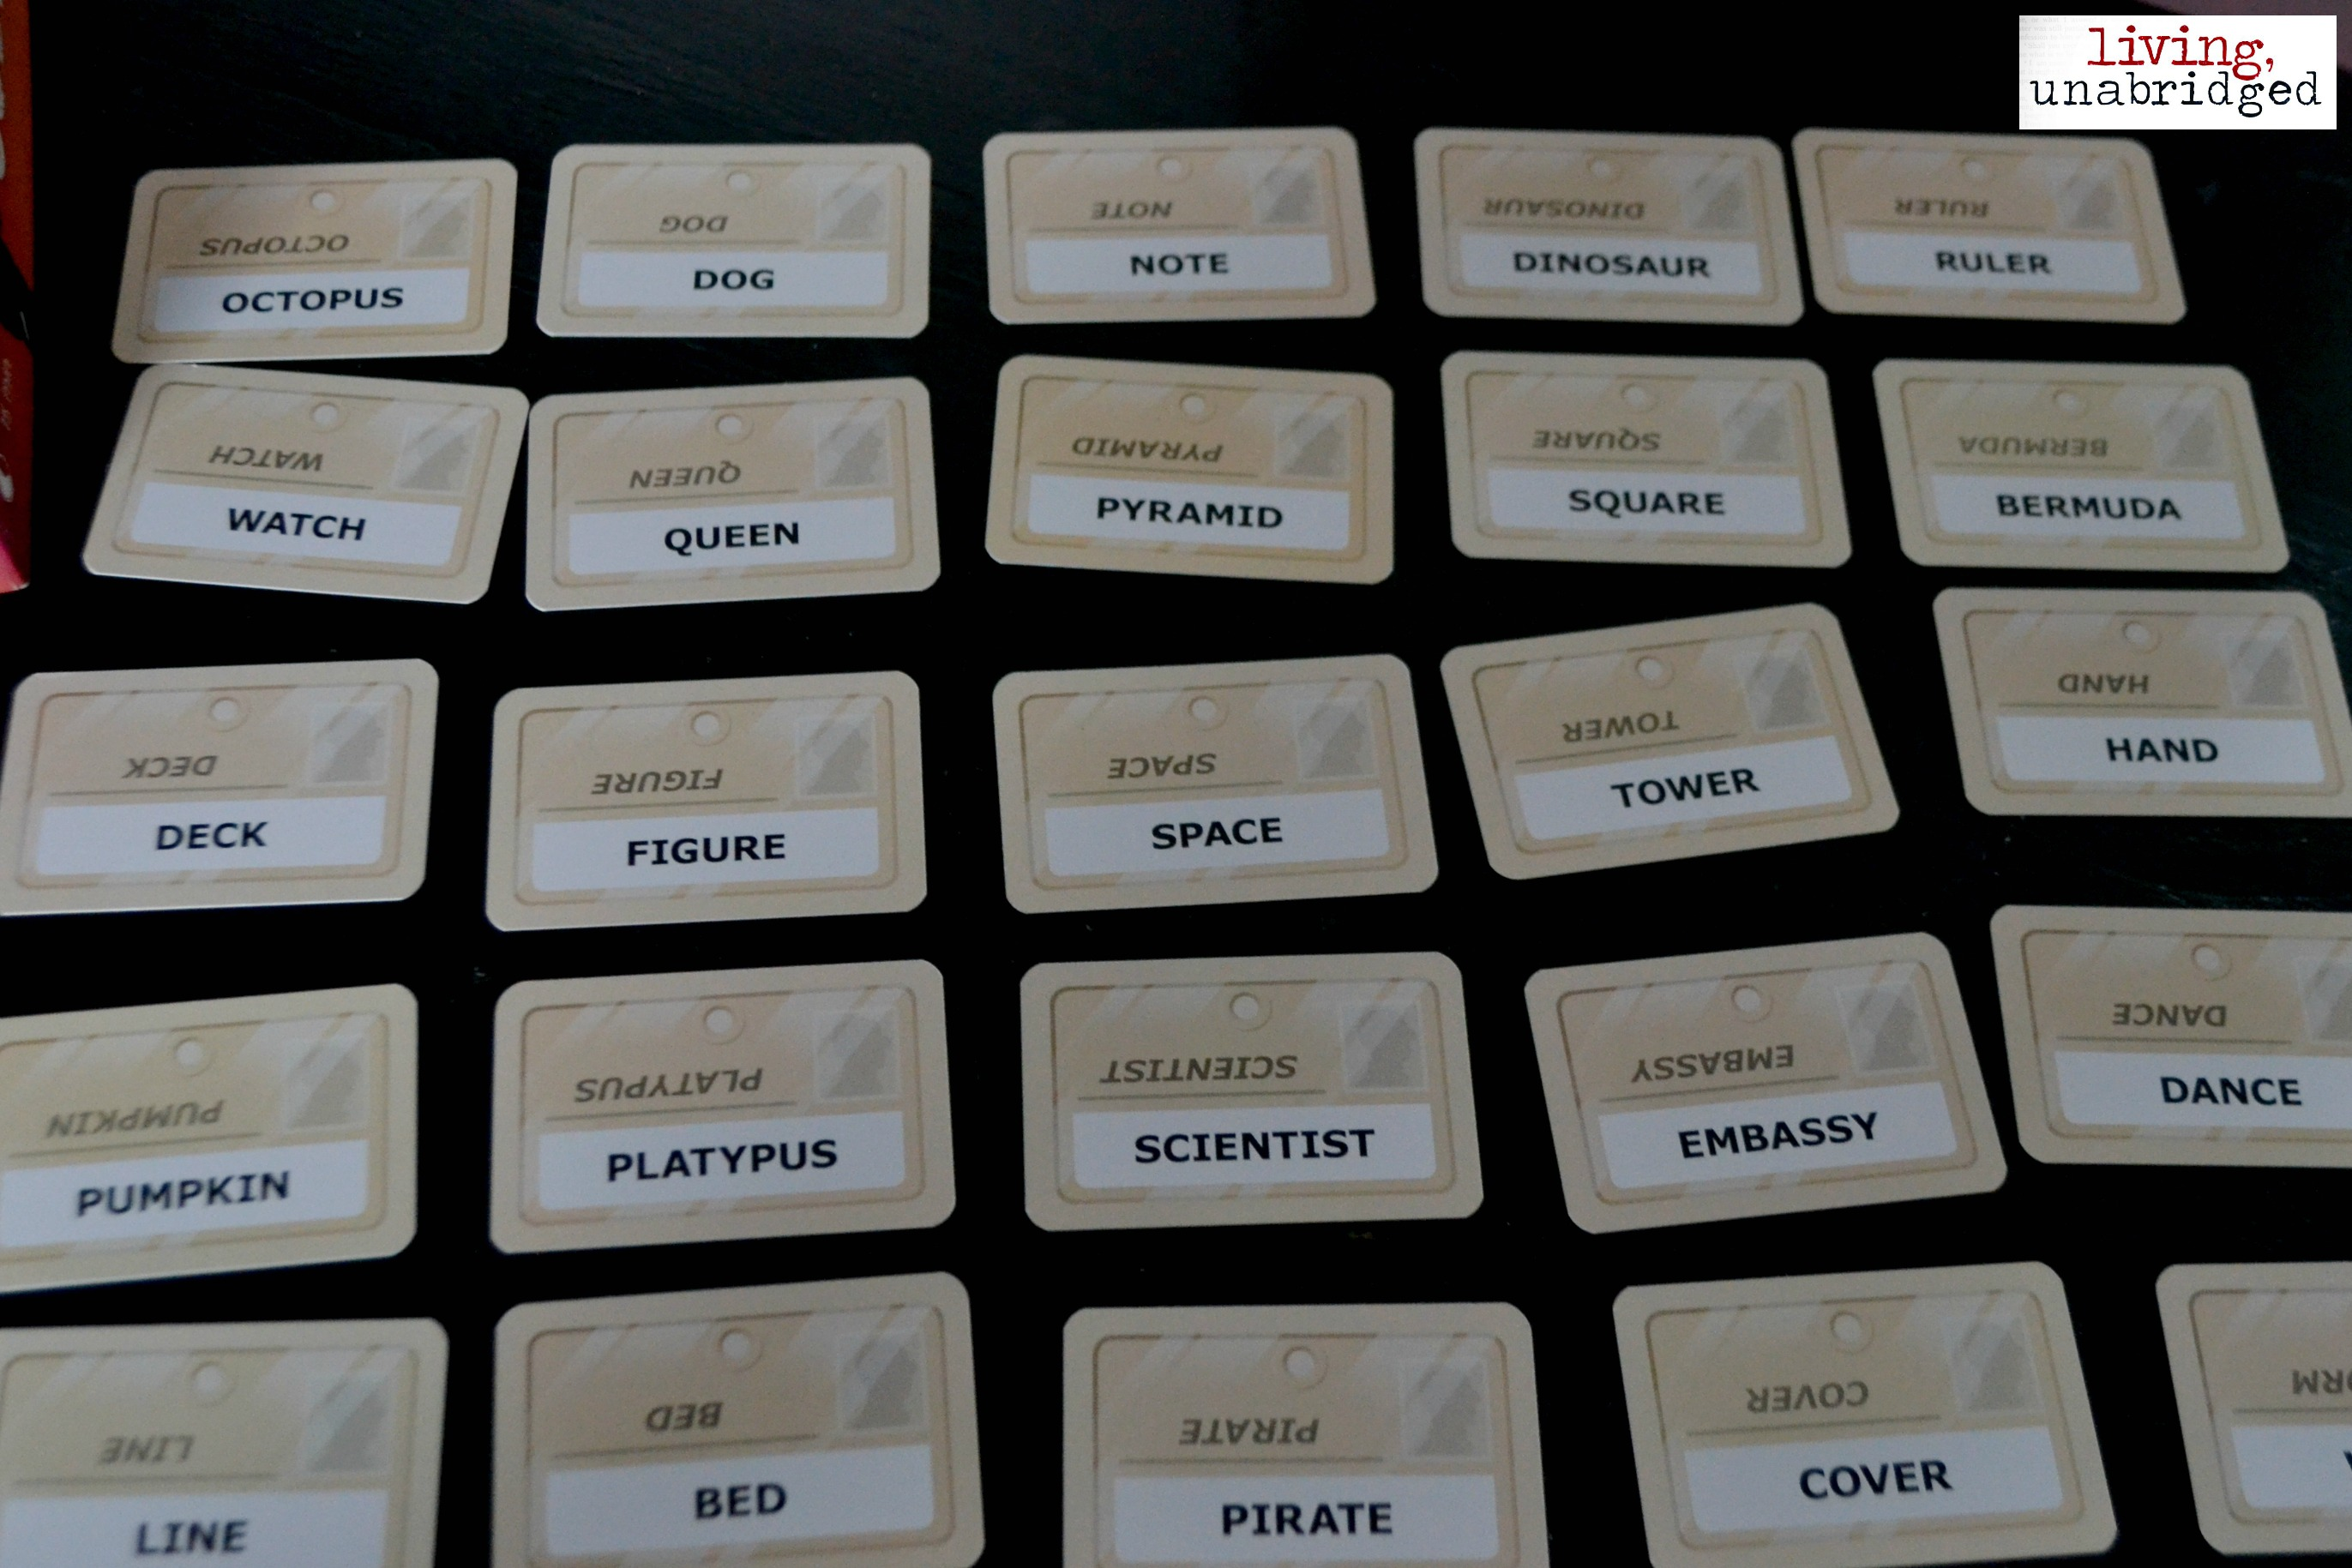A: (1305, 1496, 1339, 1549), (1768, 1115, 1799, 1165), (660, 1141, 693, 1188), (2133, 730, 2163, 777), (2189, 1071, 2219, 1111), (262, 504, 287, 546), (1174, 497, 1200, 535), (2156, 493, 2186, 527), (1200, 815, 1229, 849), (1633, 250, 1659, 283), (1648, 486, 1673, 521)
